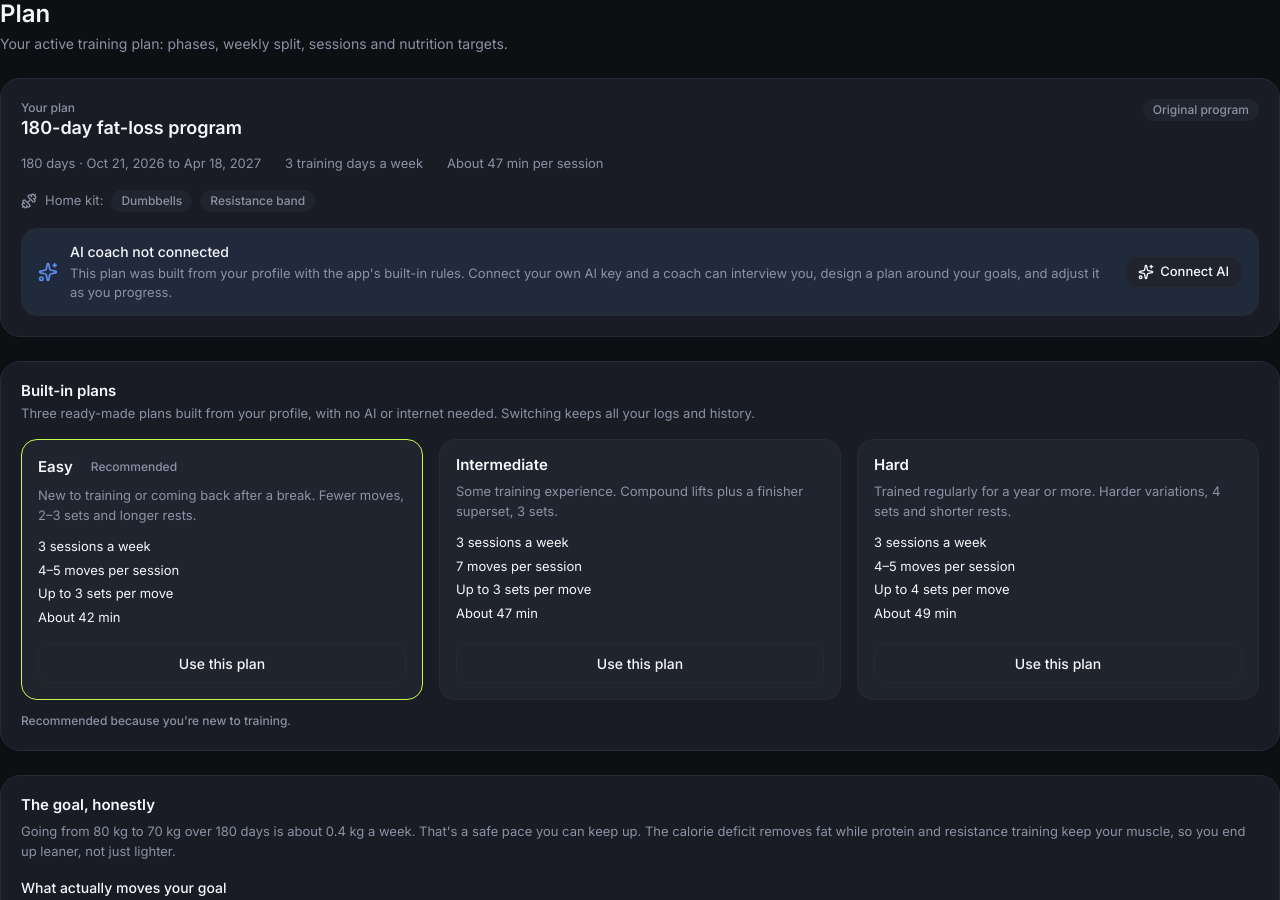
Test: Plan page › switches to a built-in plan after confirming
Click the button with aria-label "Use this plan: Hard": click(1058, 663) [874,643,1242,683]
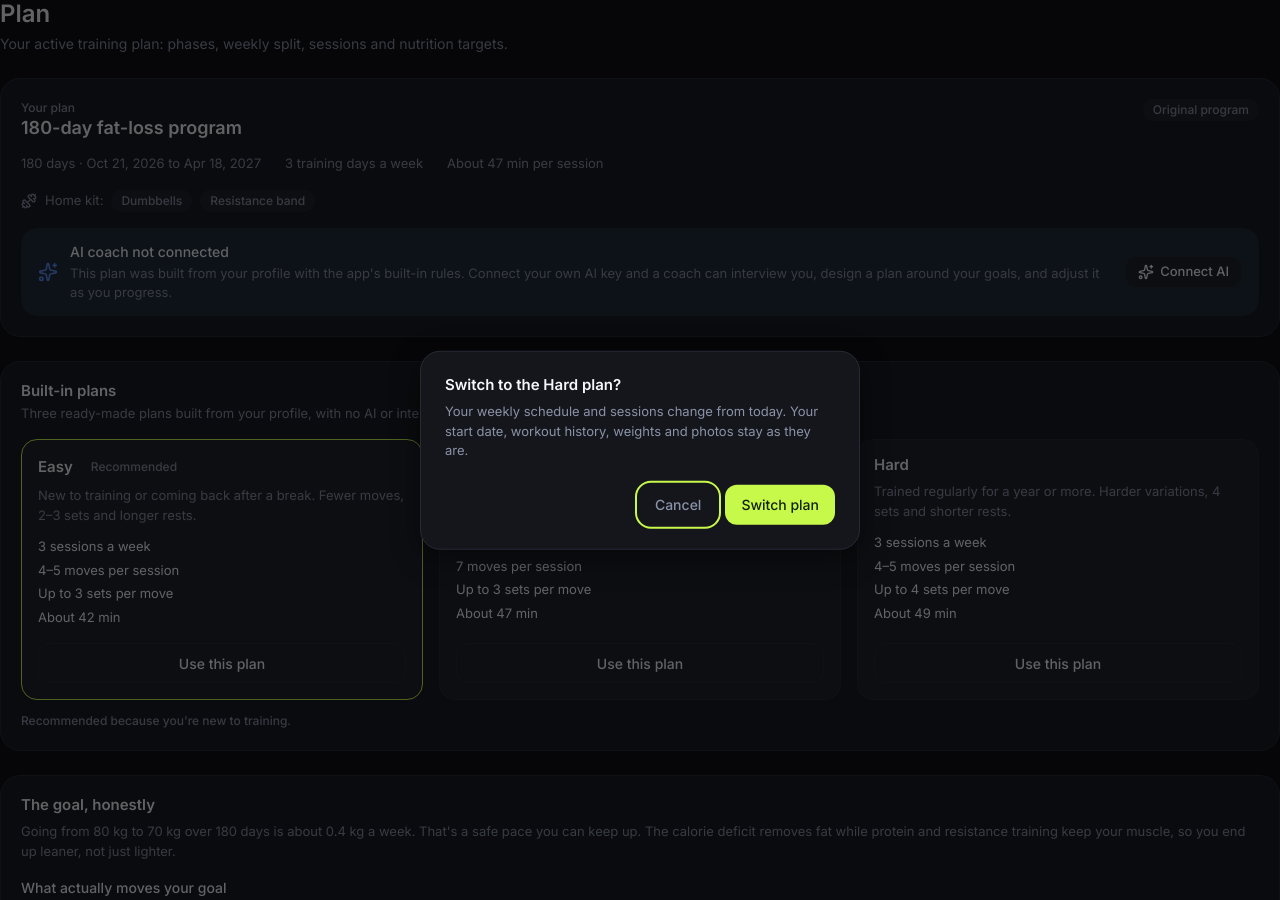
Click the button "Switch plan": click(780, 504) [725,484,835,524]
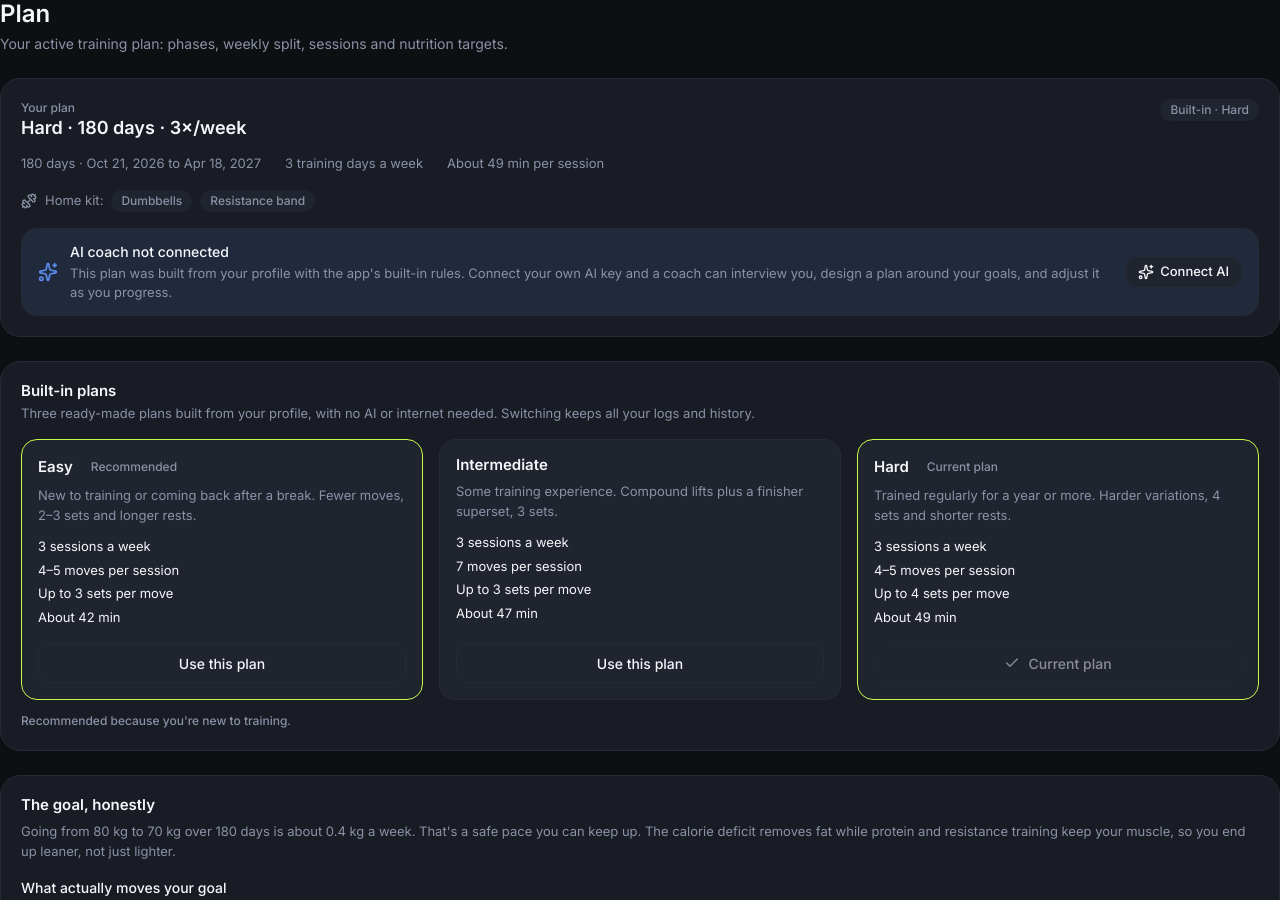
Check: the text "Built-in · Hard" is shown, box [1160,99,1259,121]
Check: the button "Current plan" is disabled, box [874,643,1242,683]
